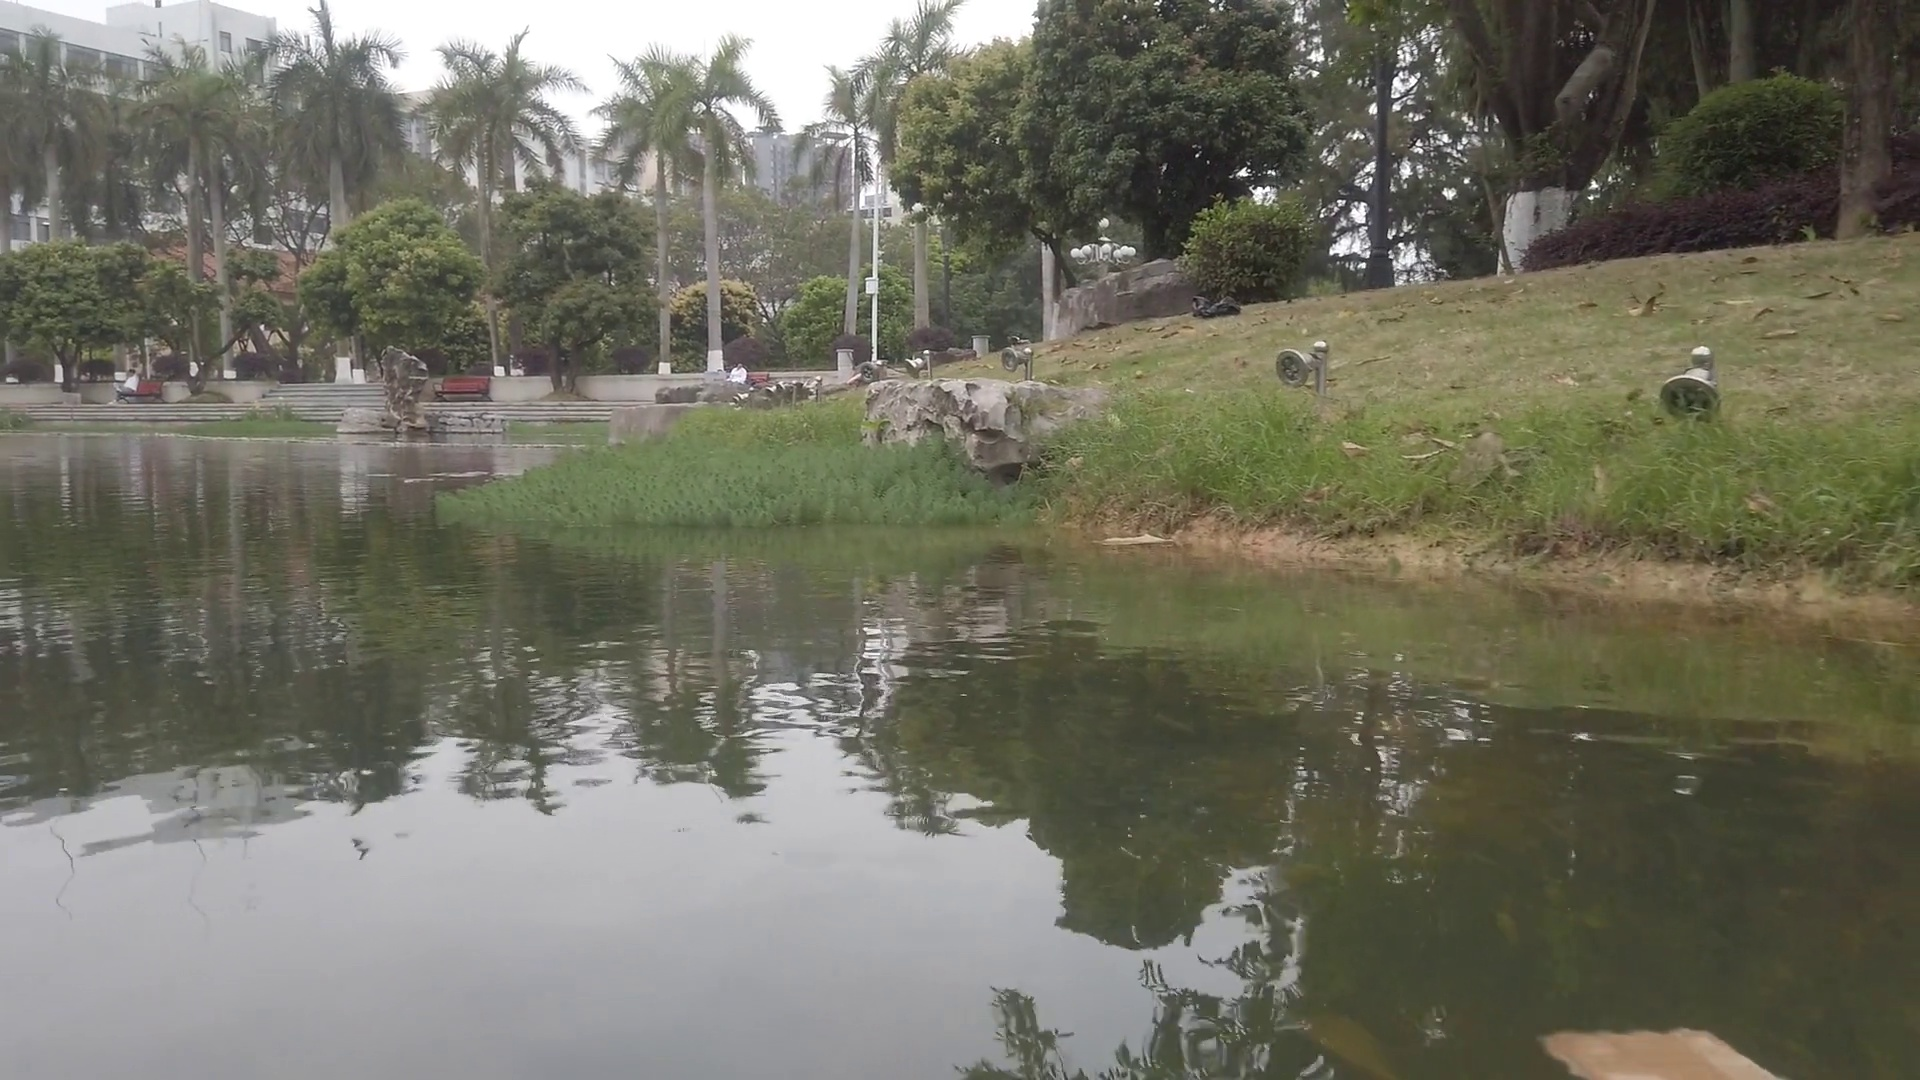paper: (1543, 1013, 1766, 1076), (1101, 533, 1164, 550)
